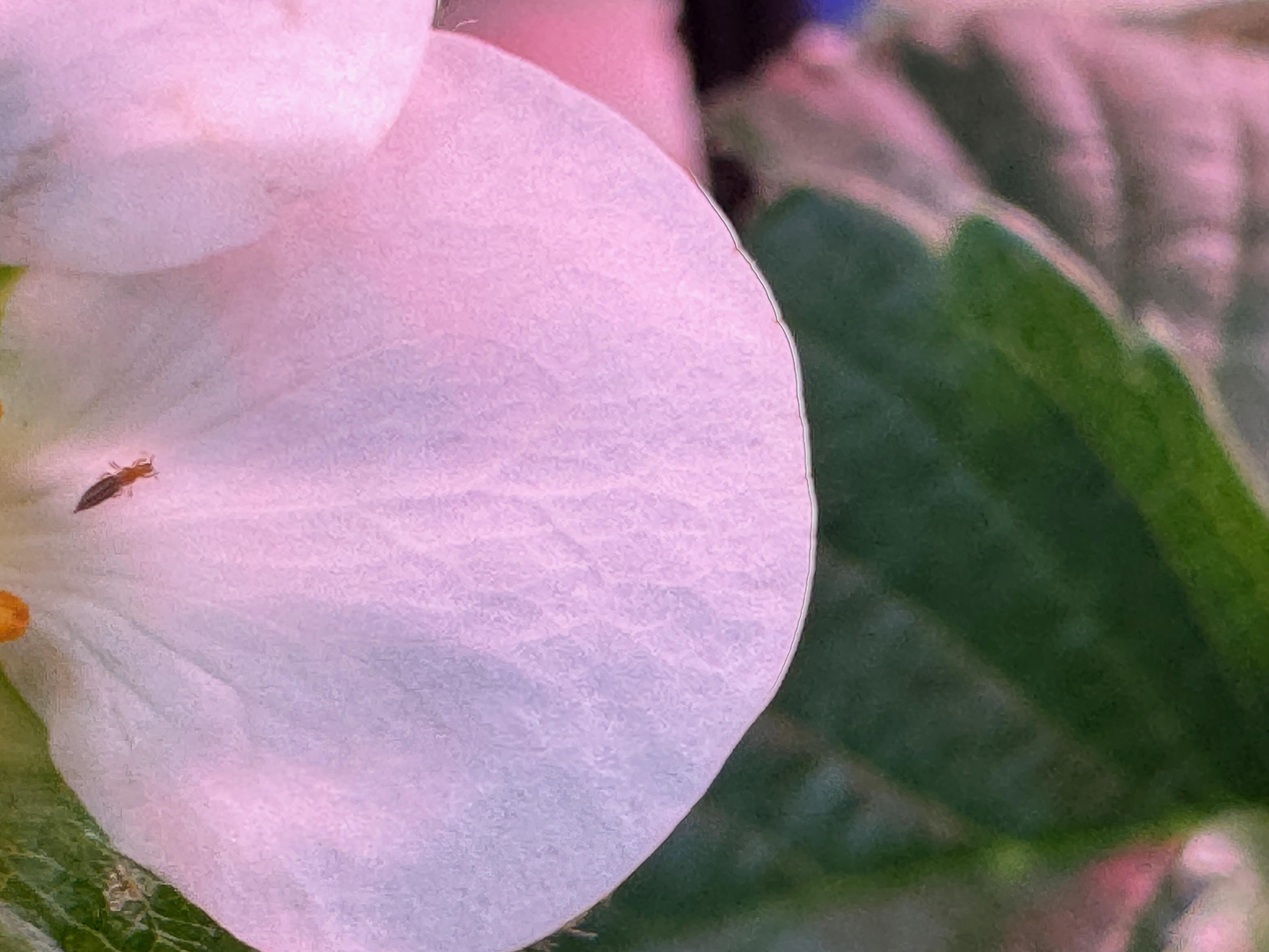tiny_pests: (42, 430, 190, 540)
